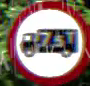Heavy Vehicles: (5, 0, 89, 85)
